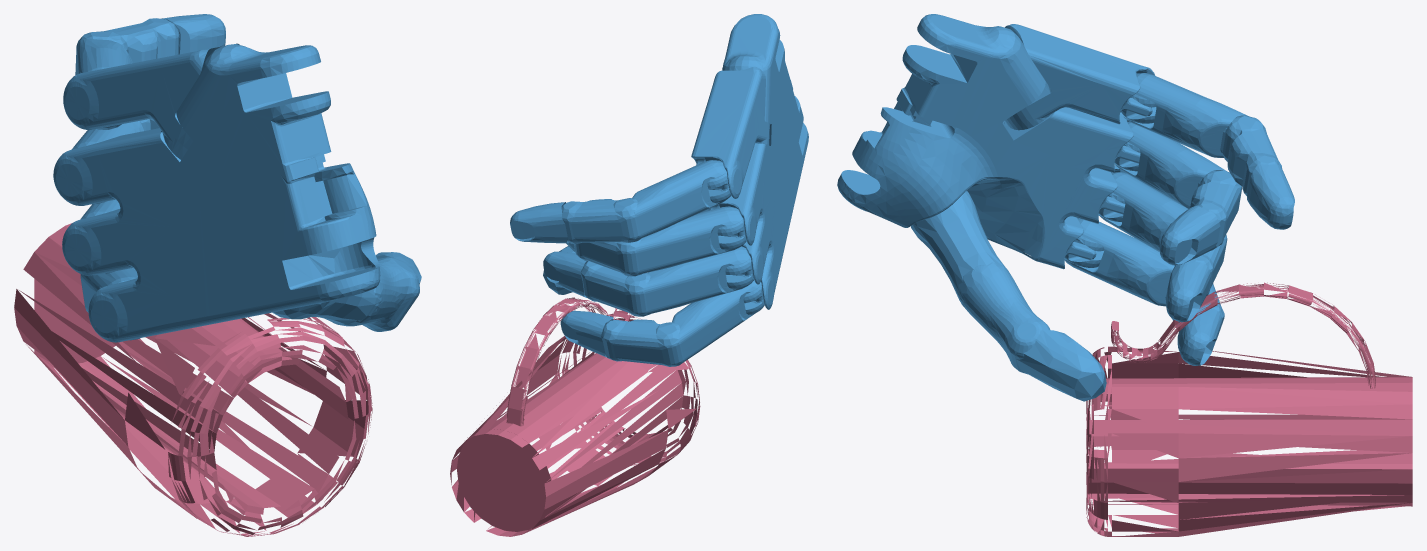
3 renders of one model, left to right at view 1: azimuth 30°, elevation 25°; view 2: azimuth 150°, elevation 25°; view 3: azimuth 270°, elevation 25°, orthographic. The views are drawn at different scales.
Visible parts, largest first — view 1: 7; view 2: 7; view 3: 7.
Boxes of the visible parts, x1,y1,x2,y2 form: 7: [14, 14, 421, 536]; 7: [450, 14, 808, 536]; 7: [837, 14, 1412, 536].
Bounding box in the file's own units: 0.1173 × 0.2005 × 0.2191.
